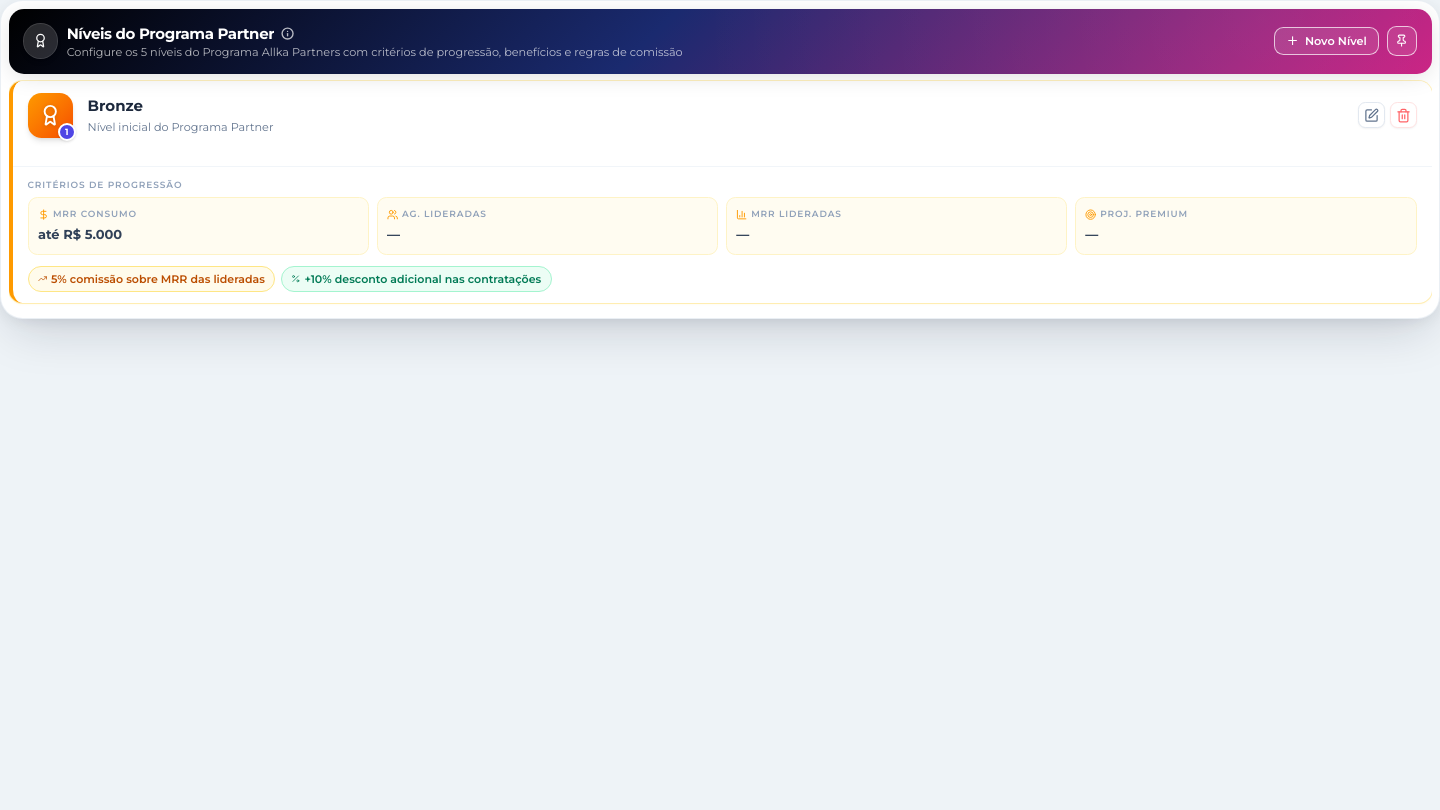
Test case: Admin > Níveis — exclusão de nível (confirmação dupla) › avançar abre a 2ª etapa; voltar não exclui; cancelar não exclui
Later steps or results of the test are not shown.
Click the button named "excluir nível" at (1403, 115), box [1390, 102, 1417, 128]
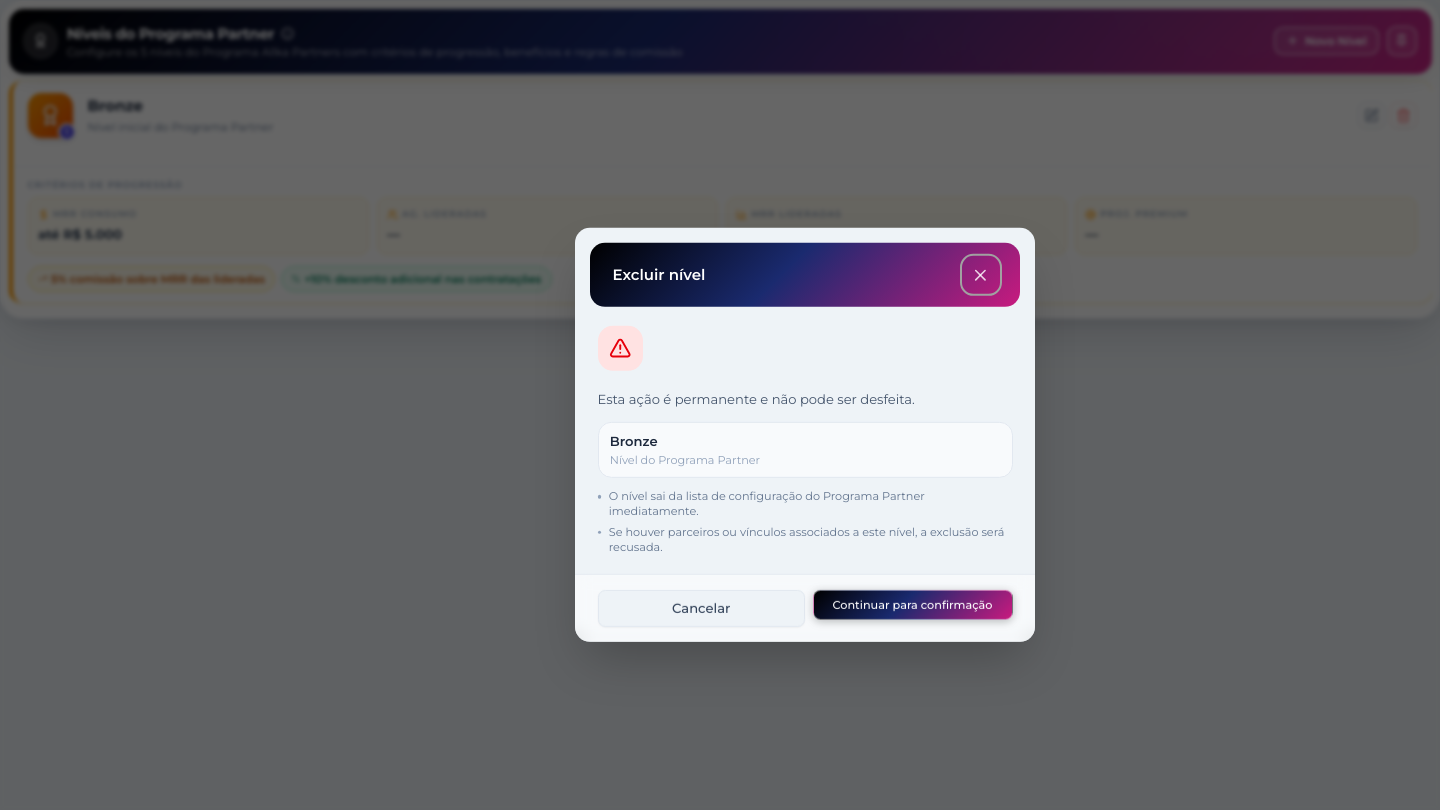
Click the button "Continuar para confirmação" at (912, 605), box [812, 590, 1012, 620]
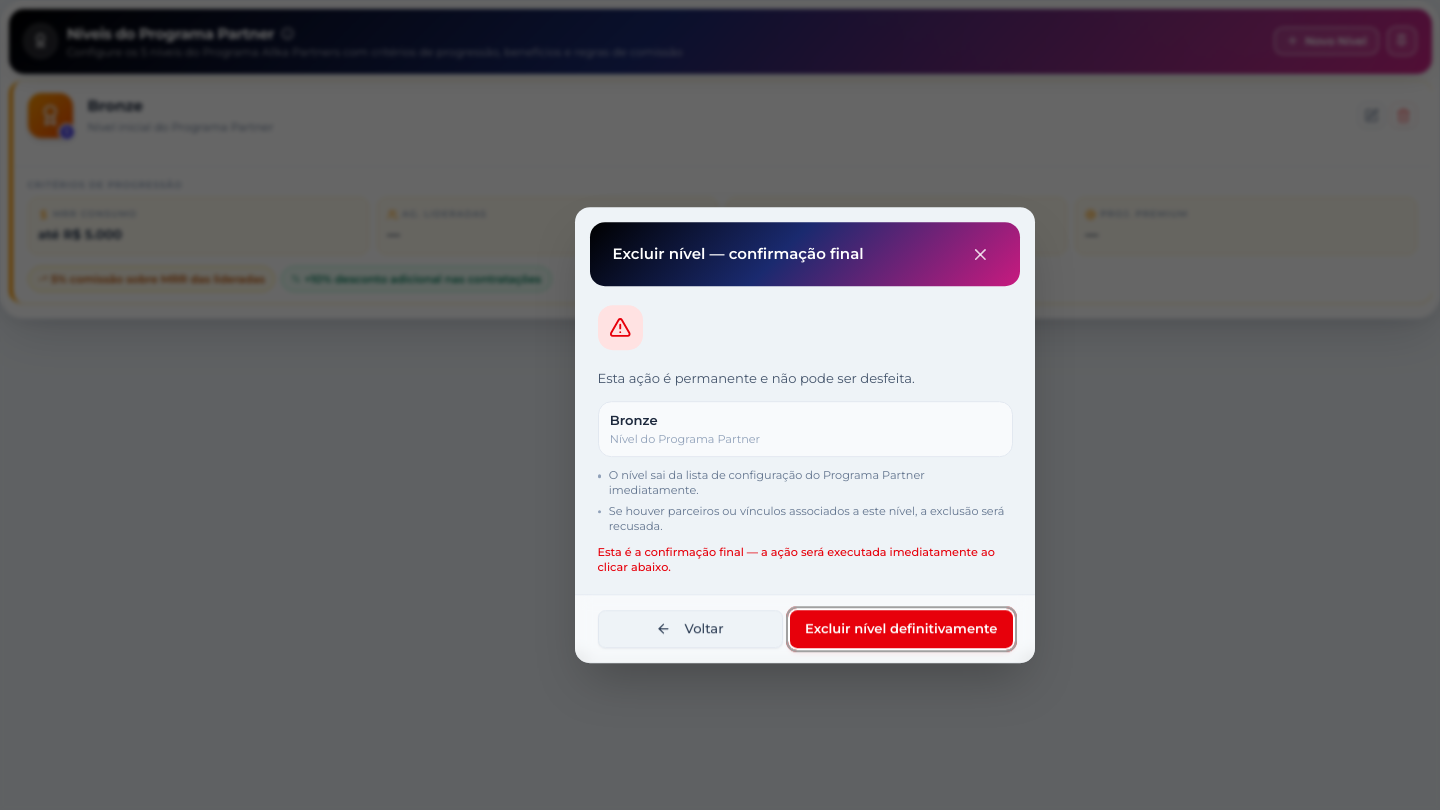
Now the button "Excluir nível definitivamente" is shown, box [790, 610, 1012, 648]
Click the button "Voltar" at (690, 629), box [598, 610, 782, 648]
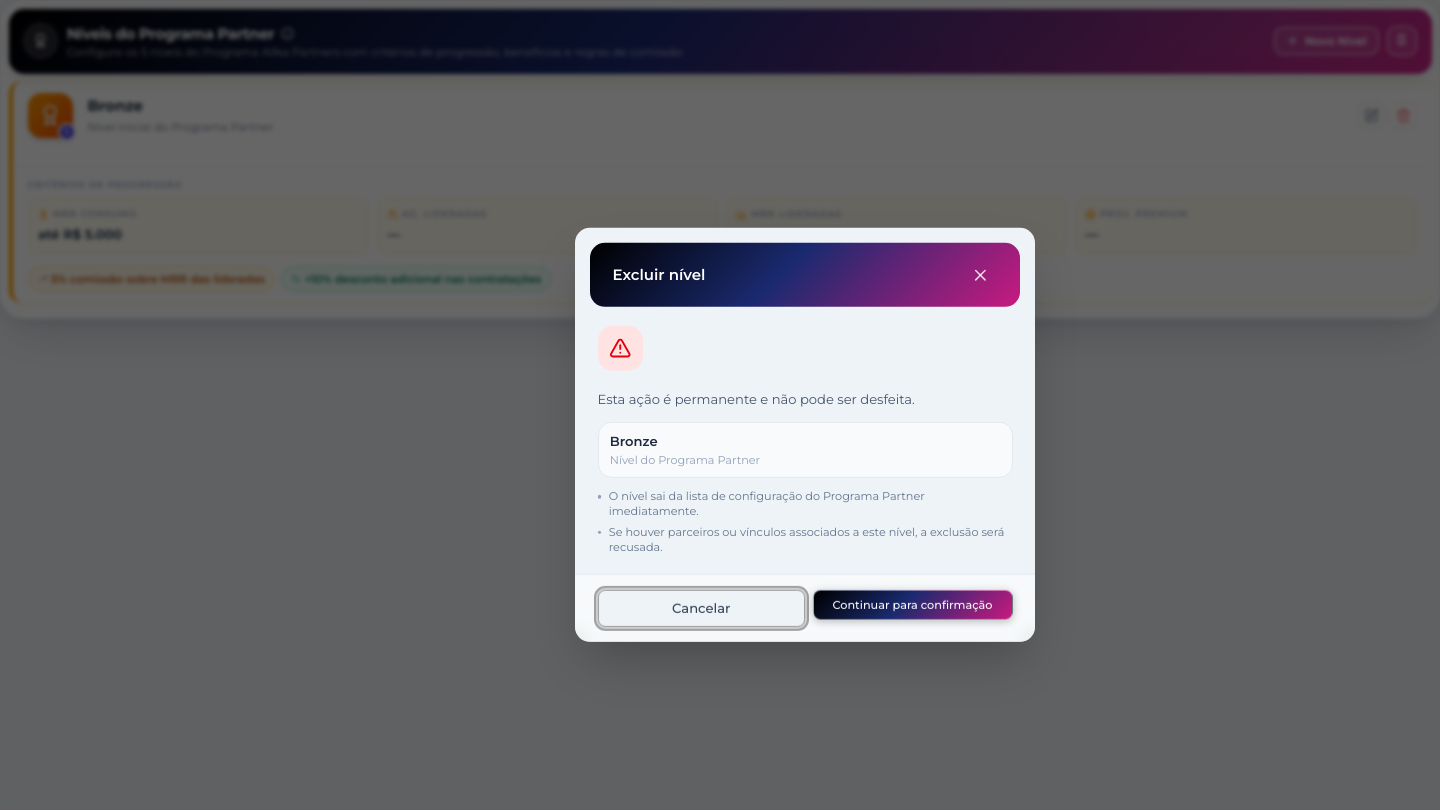
Now the button "Continuar para confirmação" is shown, box [812, 590, 1012, 620]
